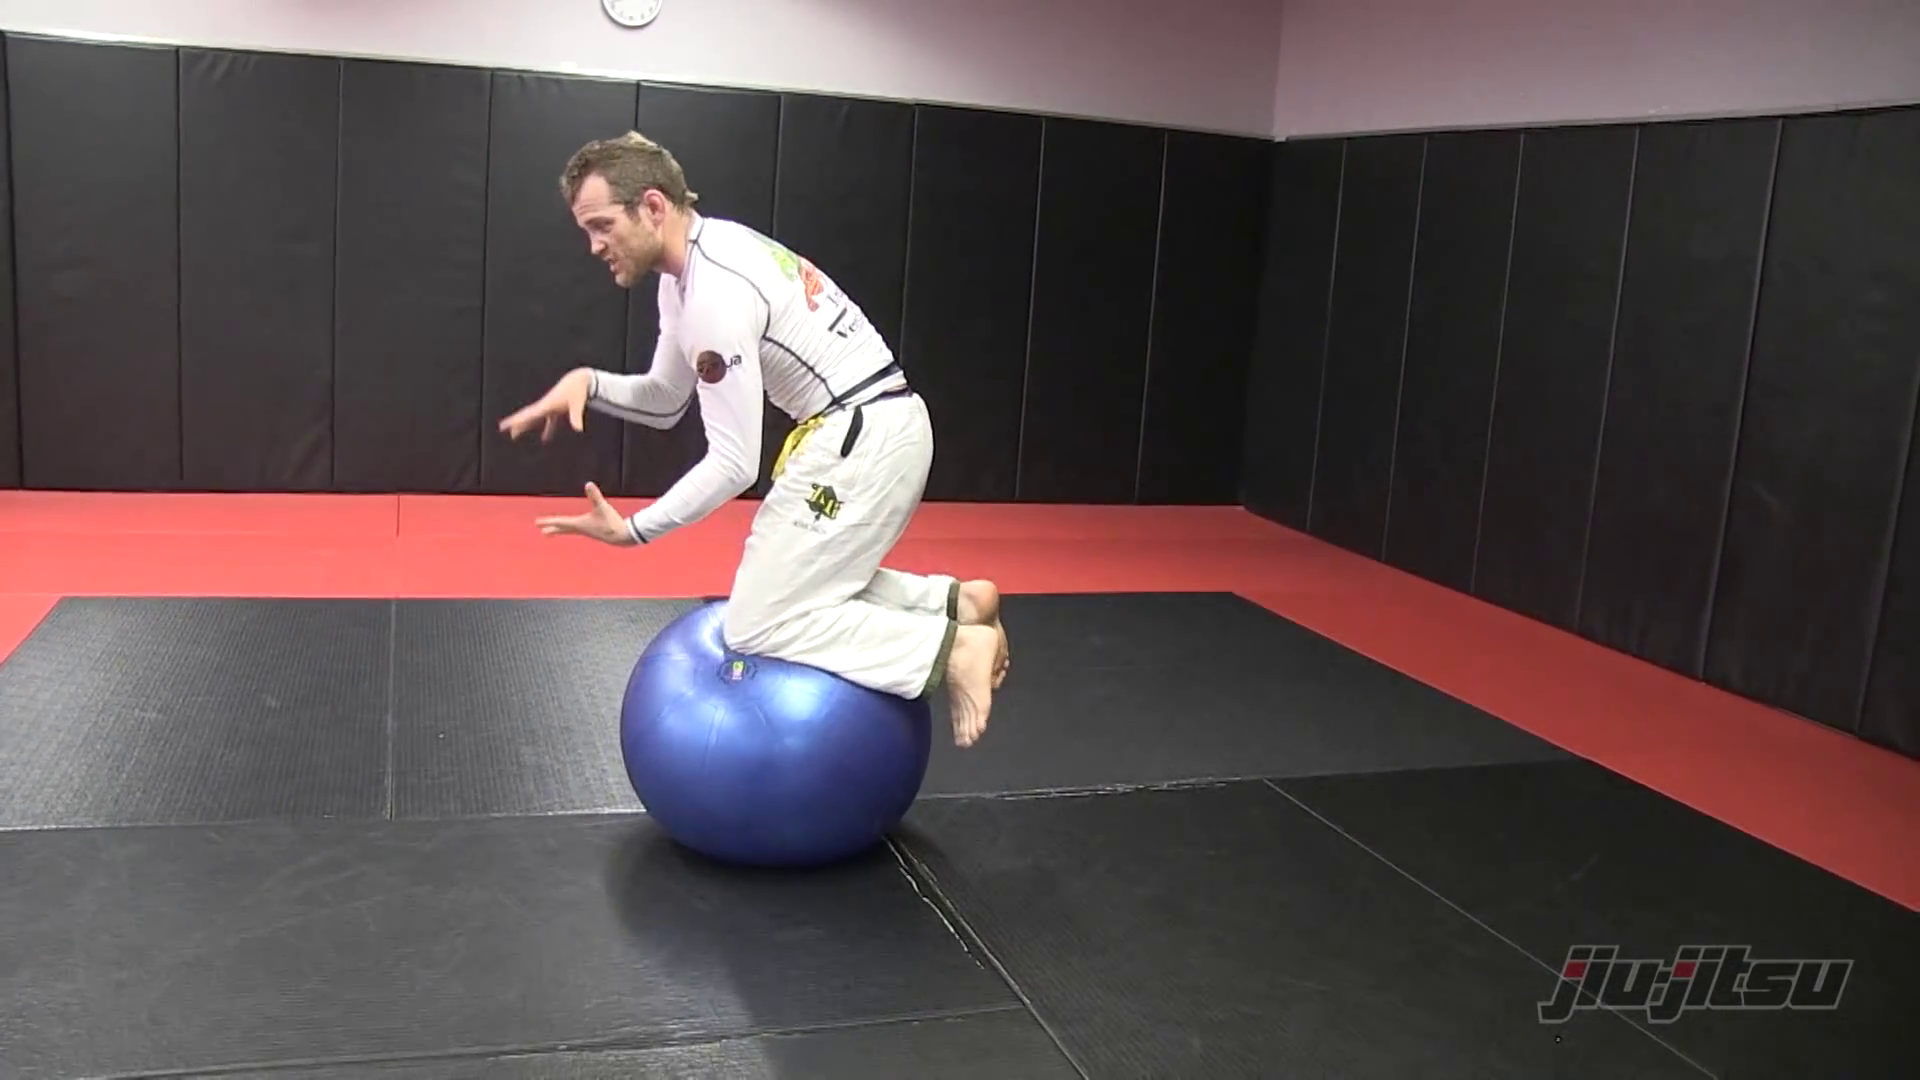yogaball: (595, 592, 957, 905)
